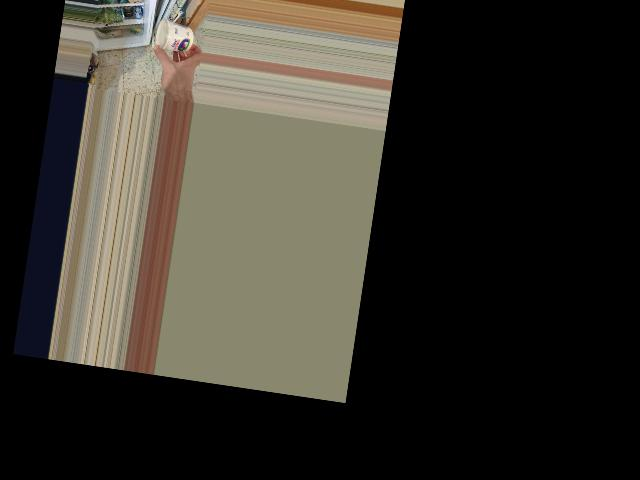cotage: (150, 15, 196, 59)
